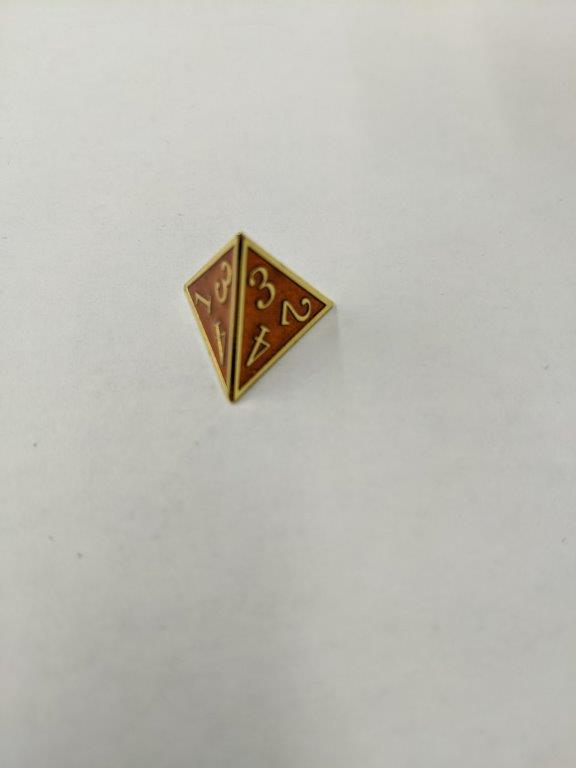d4-3: (179, 231, 337, 405)
